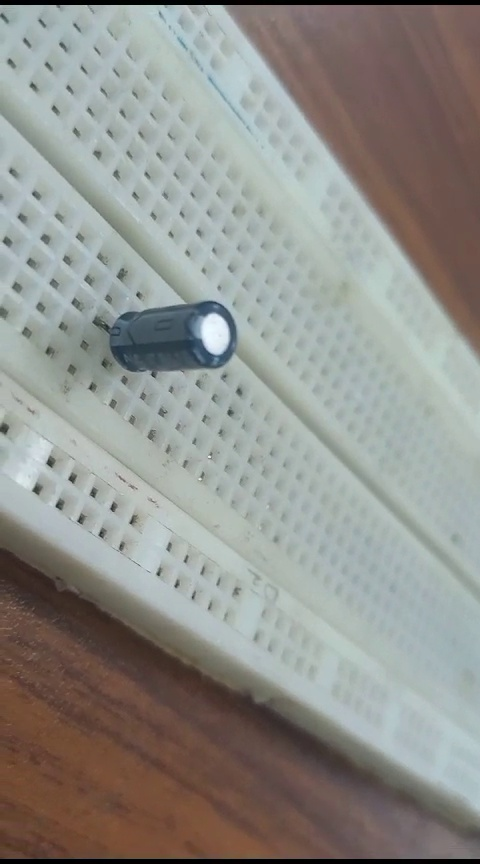capacitor: (82, 288, 243, 381)
